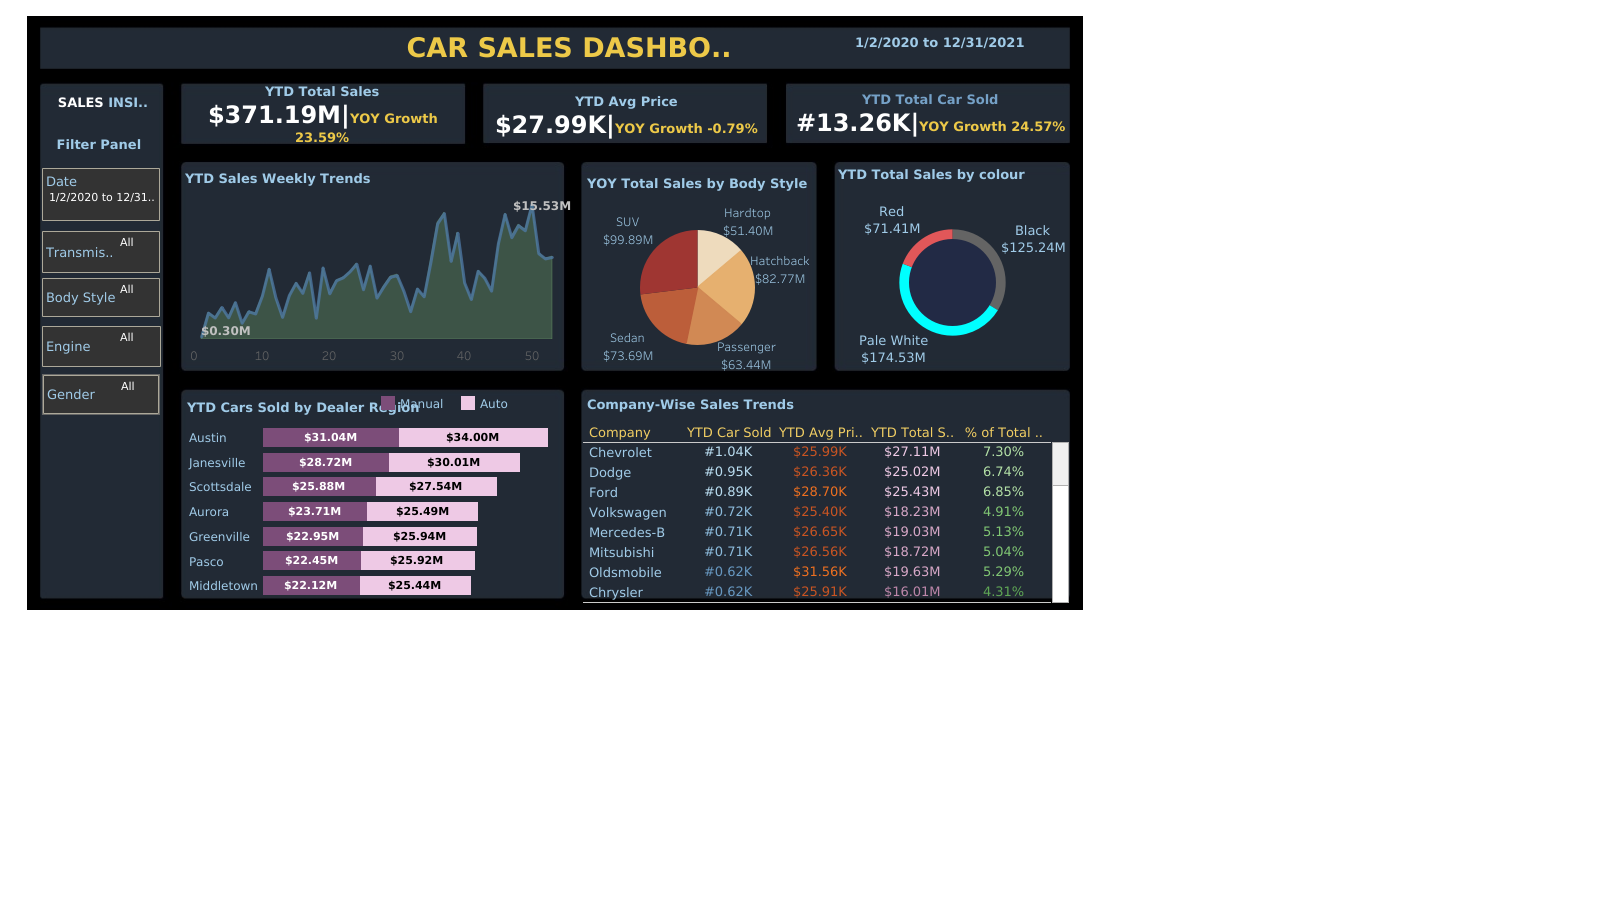

The dashboard page shown, as its layout file describes it:
{"tool":"tableau","page":{"name":"Dashboard 1","canvas":[1600,900],"ordinal":0},"visuals":[{"type":"text","box":[404,29,349,36]},{"type":"worksheet","title":"Date Range","mark":"Automatic","box":[849,33,222,52]},{"type":"worksheet","title":"YTD Avg Price","mark":"Automatic","box":[481,81,292,70]},{"type":"worksheet","title":"YTD Total Sales","mark":"Automatic","box":[180,83,286,64]},{"type":"worksheet","title":"YTD Car Sold","mark":"Automatic","box":[790,84,282,60]},{"type":"text","box":[53,87,100,30]},{"type":"text","box":[49,129,100,30]},{"type":"worksheet","title":"YTD Total Sales by colour","mark":"Pie","rows":["Calculation_708191066092707856","Calculation_708191066092777490"],"box":[834,160,237,213]},{"type":"worksheet","title":"YTD Sales Weekly","mark":"Area","rows":["Calculation_708191066049032192","Calculation_708191066049032192"],"cols":["Date"],"box":[181,164,391,205]},{"type":"filter","title":"YTD Sales Weekly","param":"[federated.0g42o401f4tmdi16an3991grlo2e].[none:Date:qk]","box":[42,168,118,53]},{"type":"worksheet","title":"YOY Total Sales by Body Style","mark":"Pie","box":[583,169,229,205]},{"type":"filter","title":"YTD Sales Weekly","param":"[federated.0g42o401f4tmdi16an3991grlo2e].[none:Transmission:nk]","box":[42,231,118,42]},{"type":"filter","title":"YTD Sales Weekly","param":"[federated.0g42o401f4tmdi16an3991grlo2e].[none:Body Style:nk]","box":[42,278,118,39]},{"type":"filter","title":"YTD Sales Weekly","param":"[federated.0g42o401f4tmdi16an3991grlo2e].[none:Engine:nk]","box":[42,326,119,41]},{"type":"filter","title":"YTD Sales Weekly","param":"[federated.0g42o401f4tmdi16an3991grlo2e].[none:Gender:nk]","box":[42,374,118,41]},{"type":"worksheet","title":"Company-Wise Sales Trends","mark":"Automatic","rows":["Company"],"box":[583,390,486,213]},{"type":"worksheet","title":"YTD Cars Sold by Dealer Region","mark":"Automatic","rows":["Dealer_Region"],"cols":["Calculation_708191066049032192"],"box":[183,393,379,205]},{"type":"legend","title":"YTD Cars Sold by Dealer Region","param":"[federated.0g42o401f4tmdi16an3991grlo2e].[none:Transmission:nk]","box":[378,393,178,27]}]}

Visuals, with their boxes in screenshot pixels (x1, y1, x2, y2), scaled from the page's 1600x900 canvas onto the 1599x899 screenshot:
text: (404,29,753,65)
"Date Range" worksheet: (848,33,1070,85)
"YTD Avg Price" worksheet: (481,81,773,151)
"YTD Total Sales" worksheet: (180,83,466,147)
"YTD Car Sold" worksheet: (790,84,1071,144)
text: (53,87,153,117)
text: (49,129,149,159)
"YTD Total Sales by colour" worksheet (Pie marks): (833,160,1070,373)
"YTD Sales Weekly" worksheet (Area marks): (181,164,572,369)
"YTD Sales Weekly" filter: (42,168,160,221)
"YOY Total Sales by Body Style" worksheet (Pie marks): (583,169,811,374)
"YTD Sales Weekly" filter: (42,231,160,273)
"YTD Sales Weekly" filter: (42,278,160,317)
"YTD Sales Weekly" filter: (42,326,161,367)
"YTD Sales Weekly" filter: (42,374,160,415)
"Company-Wise Sales Trends" worksheet: (583,390,1068,602)
"YTD Cars Sold by Dealer Region" worksheet: (183,393,562,597)
"YTD Cars Sold by Dealer Region" legend: (378,393,556,420)
